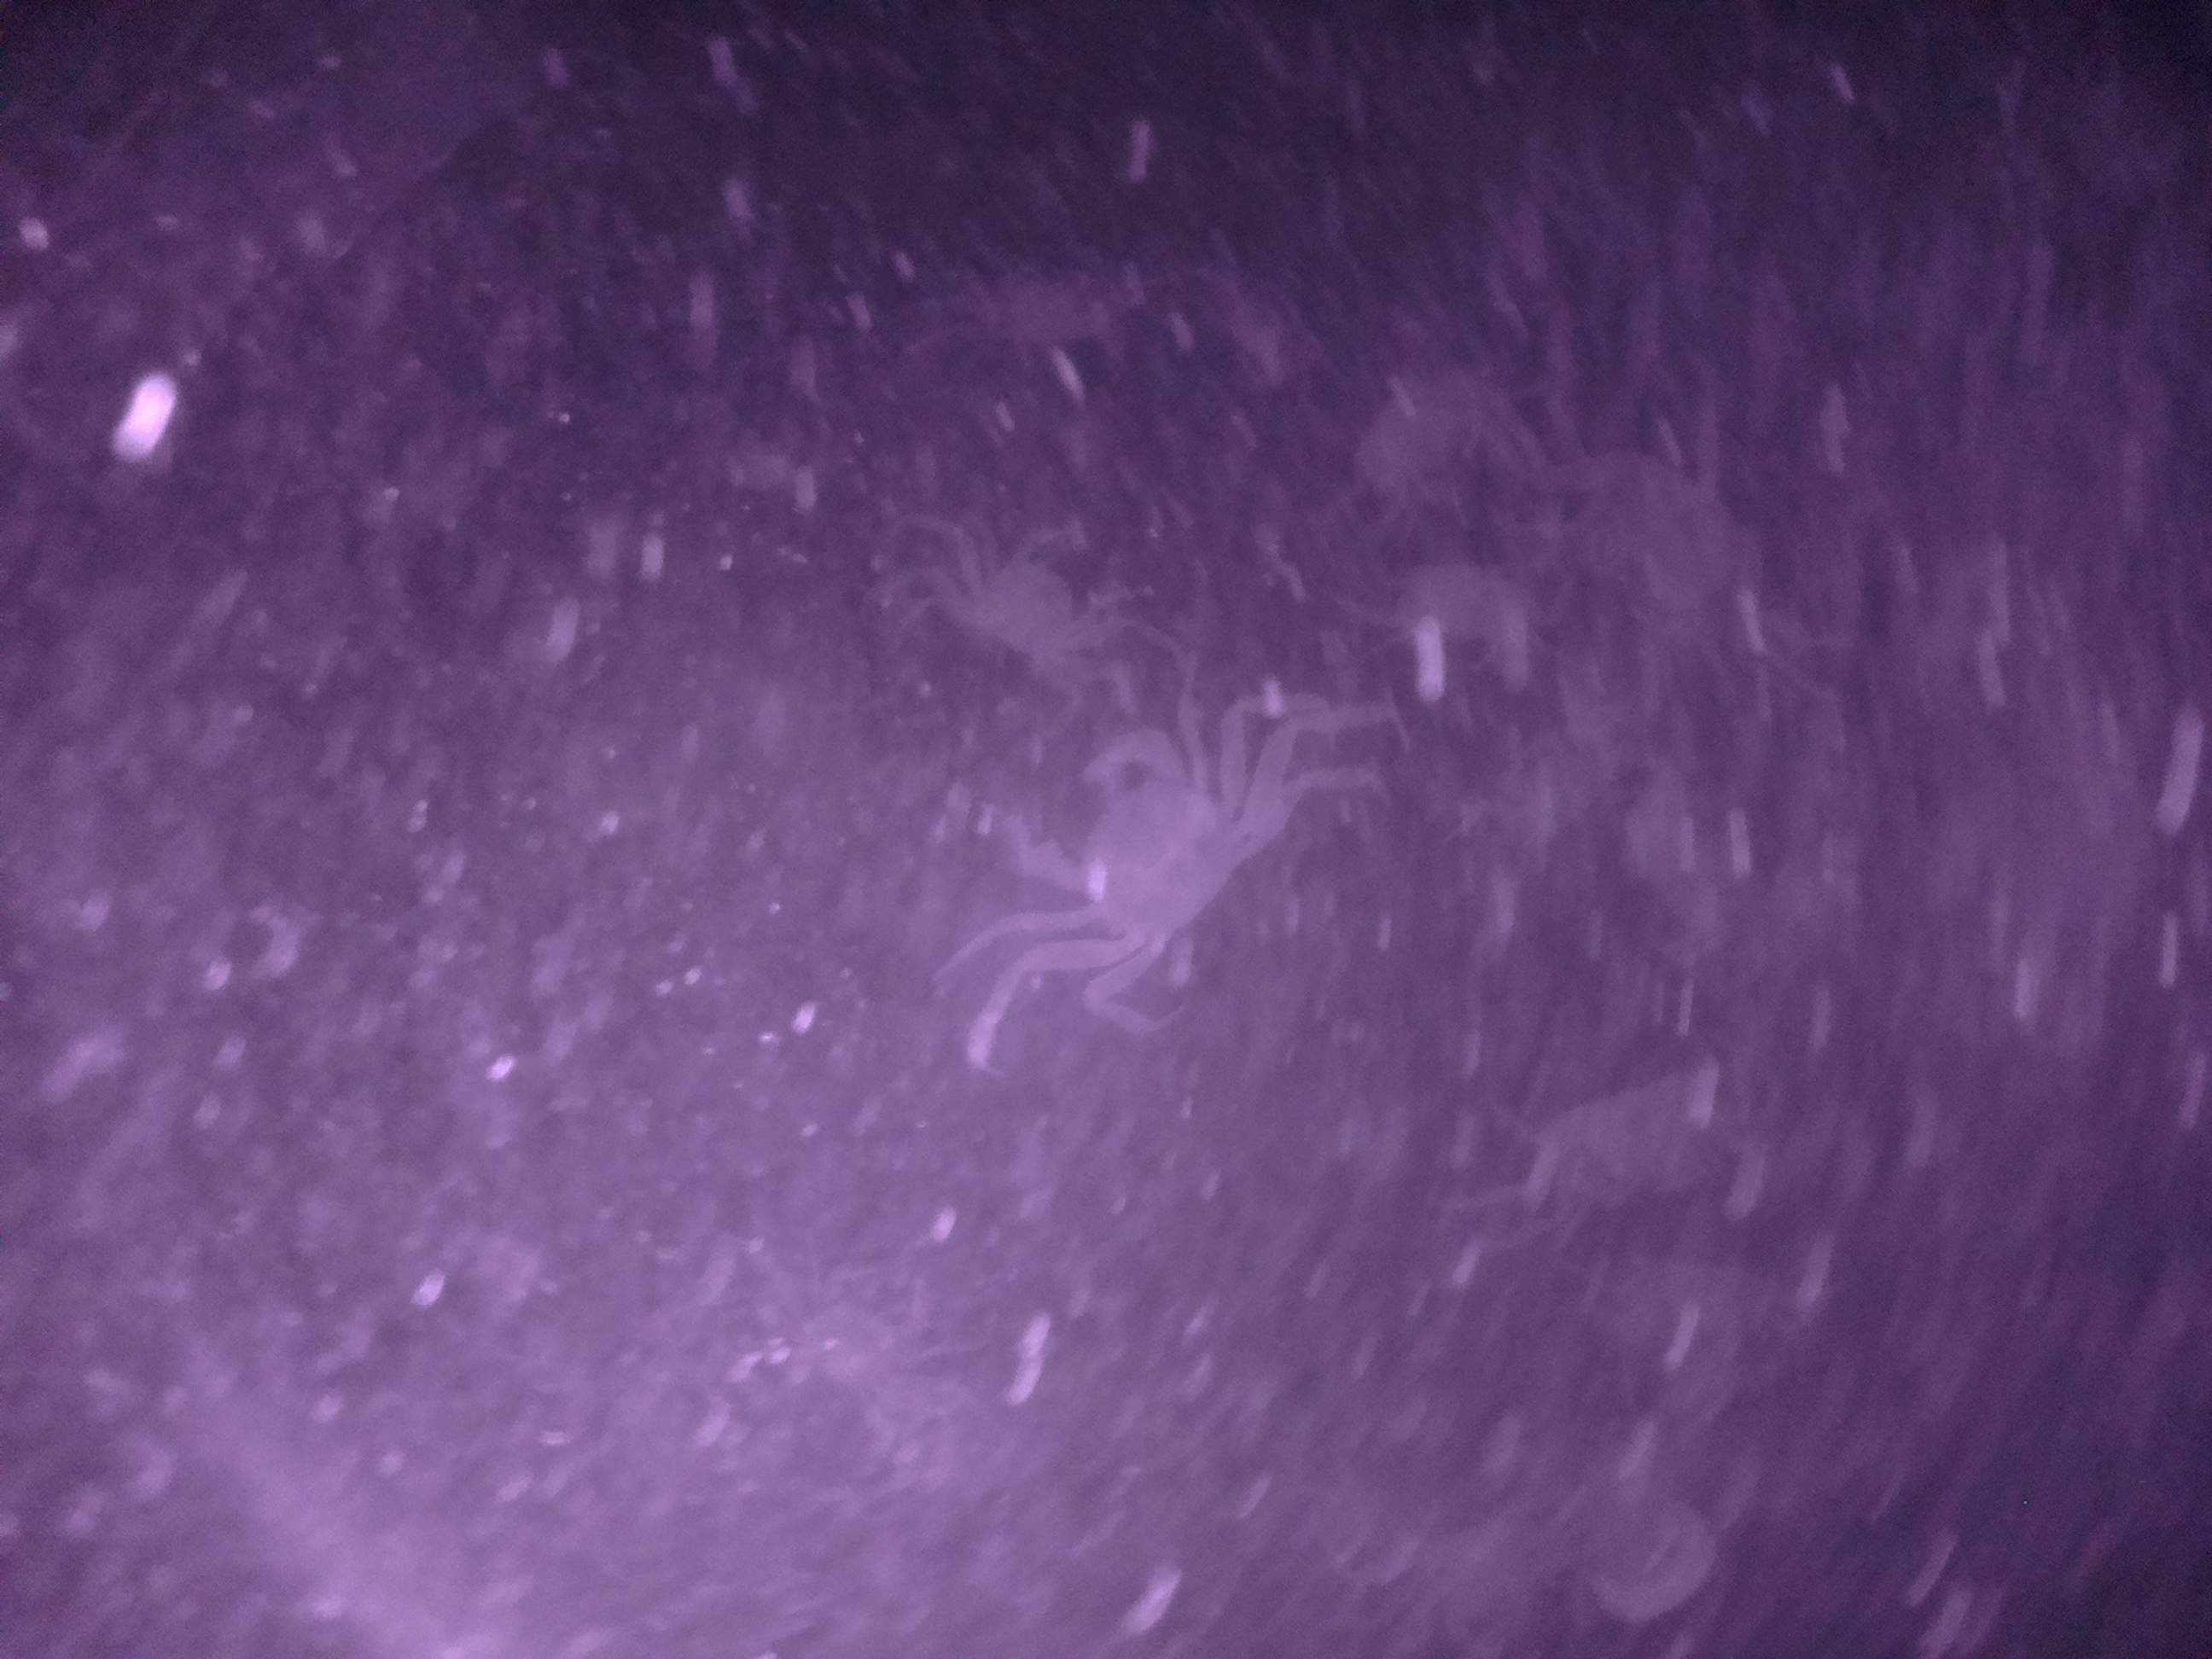Crab: (1033, 718, 1268, 978), (944, 504, 1120, 687)
